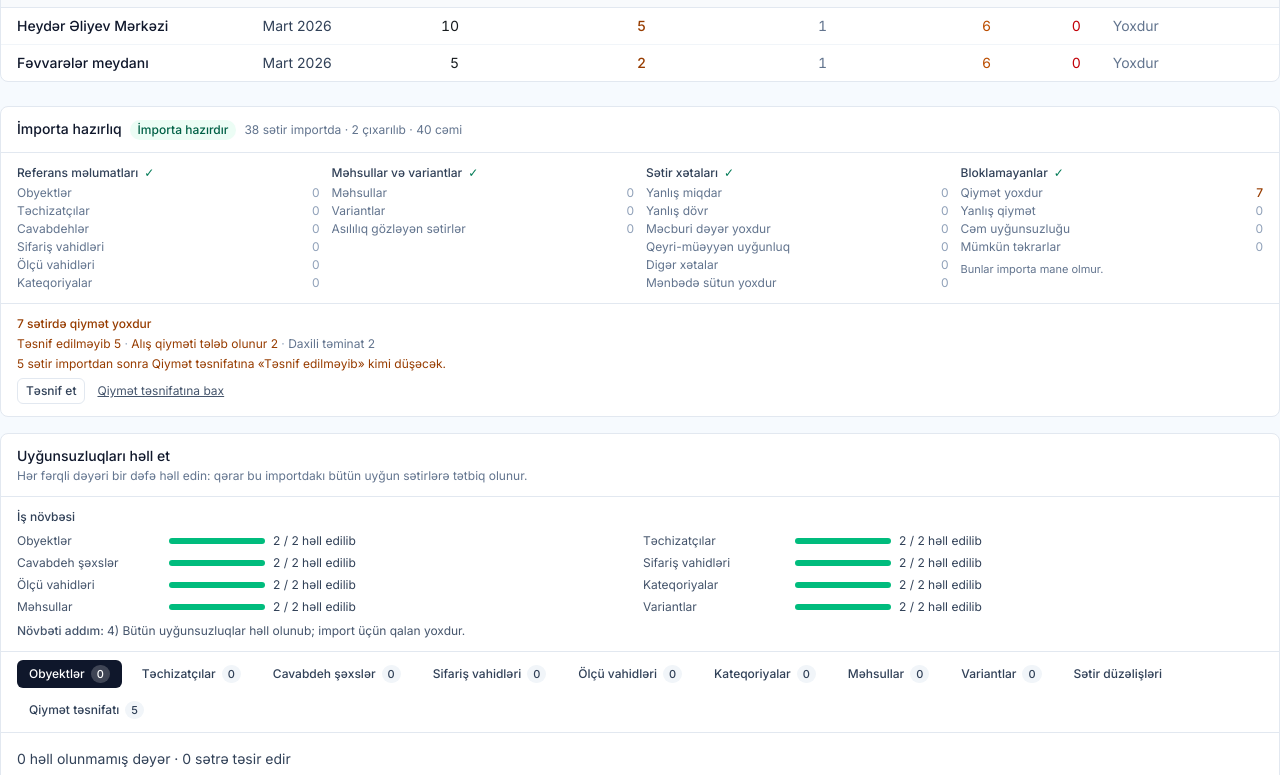
it: the review › opens the tab from the readiness panel’s «Təsnif et», classifiable while the batch is under review
(page scrolled)
Click the button "Təsnif et" at x=51, y=391, box [17,378,86,404]
(page scrolled)
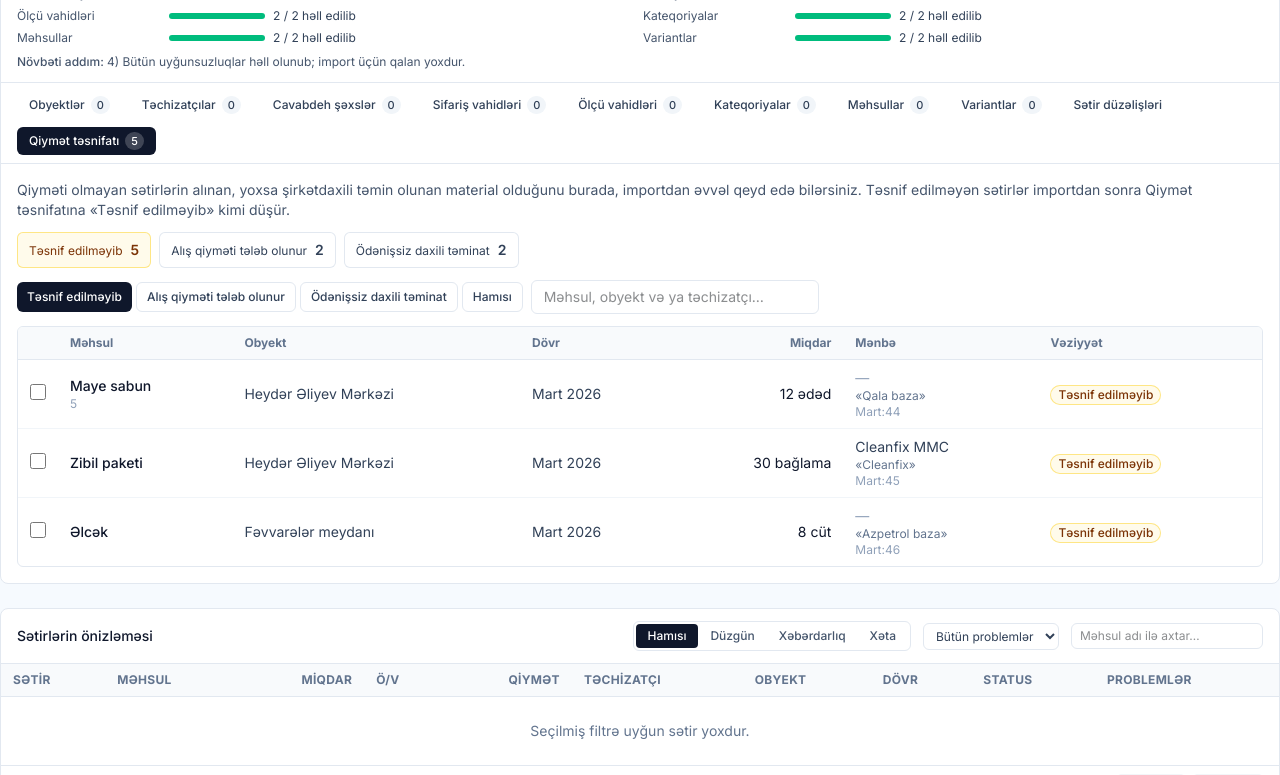
Now the text "Maye sabun" is shown, box [70,377,151,394]
Now the checkbox named "Maye sabun · Heydər Əliyev Mərkəzi · Mart 2026" is shown, box [30,384,46,400]
